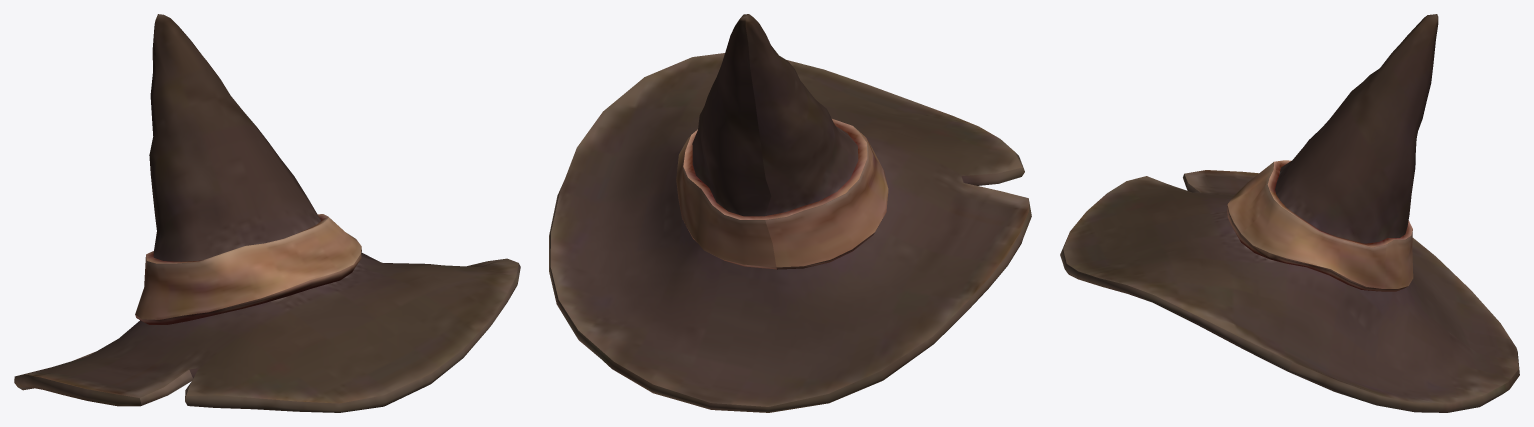
File: chapeau_magicien.glb
3 renders of one model, left to right at view 1: azimuth 30°, elevation 25°; view 2: azimuth 150°, elevation 25°; view 3: azimuth 270°, elevation 25°, orthographic. The views are drawn at different scales.
Parts seen in each view (by area): view 1: Object_2; view 2: Object_2; view 3: Object_2.
Boxes of the visible parts, <box> form: Object_2: <box>14,14,520,412</box>; Object_2: <box>549,14,1031,412</box>; Object_2: <box>1060,14,1519,412</box>.
Bounding box in the file's own units: 2.19 × 1.77 × 2.13.
Materials: 1 (1 with a texture image).
